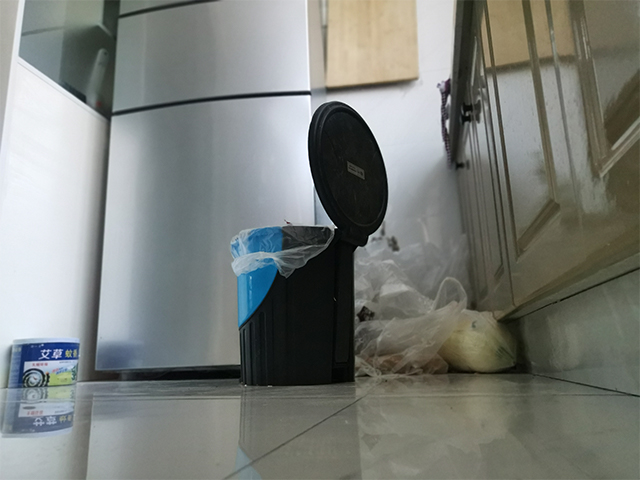cabinet: (445, 1, 640, 401)
trashcan: (228, 99, 390, 388)
